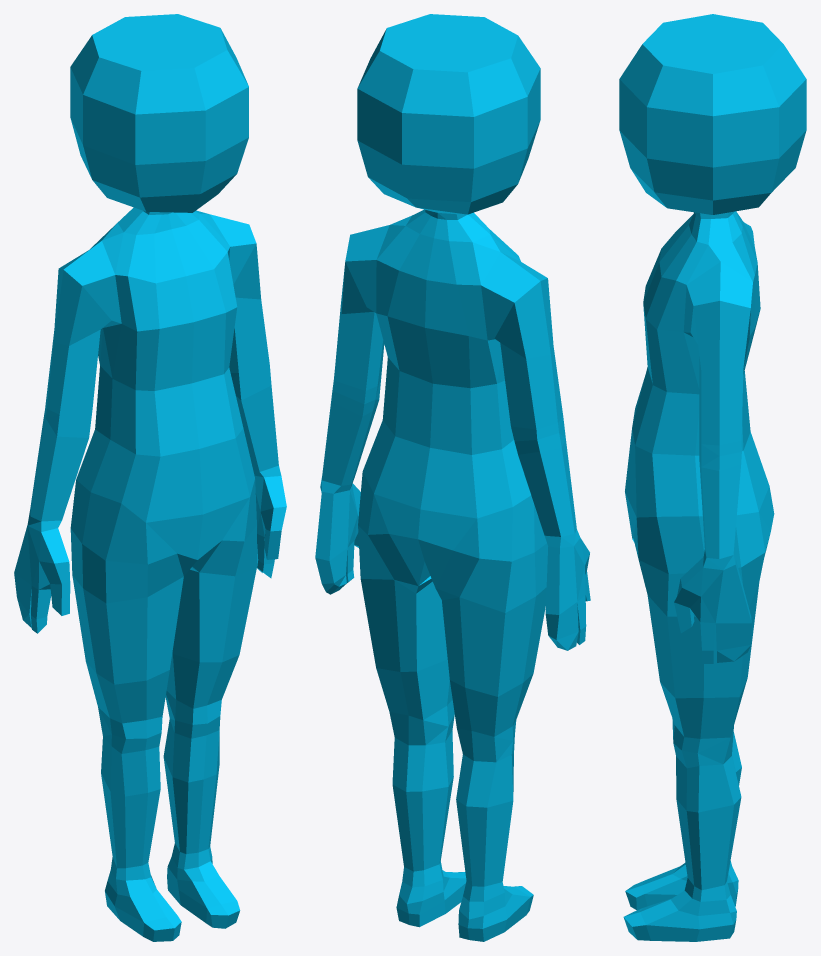
File: kduribeiro_charset_base_005.fbx
3 views of the same model, side by side, from view 1: azimuth 30°, elevation 25°; view 2: azimuth 150°, elevation 25°; view 3: azimuth 270°, elevation 25° (orthographic). The views are drawn at different scales.
Visible parts, largest first — view 1: Cube.003; view 2: Cube.003; view 3: Cube.003.
Boxes of the visible parts, bbox=[...] form: Cube.003: bbox=[14, 14, 286, 941]; Cube.003: bbox=[315, 14, 590, 941]; Cube.003: bbox=[619, 14, 806, 941].
Size of the model in its own units: 229 by 757 by 147.
